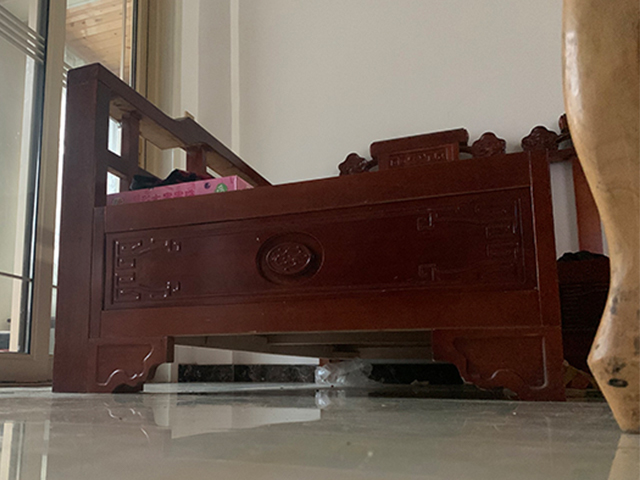sofa: (47, 60, 570, 399)
